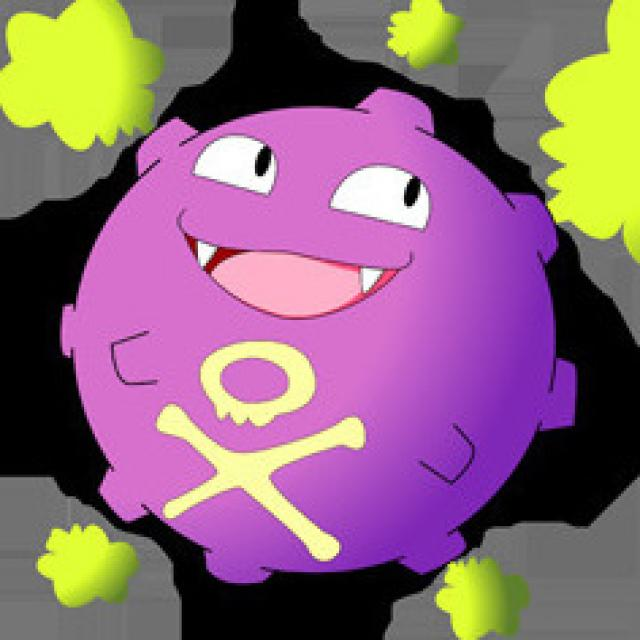Koffing: (68, 86, 575, 592)
